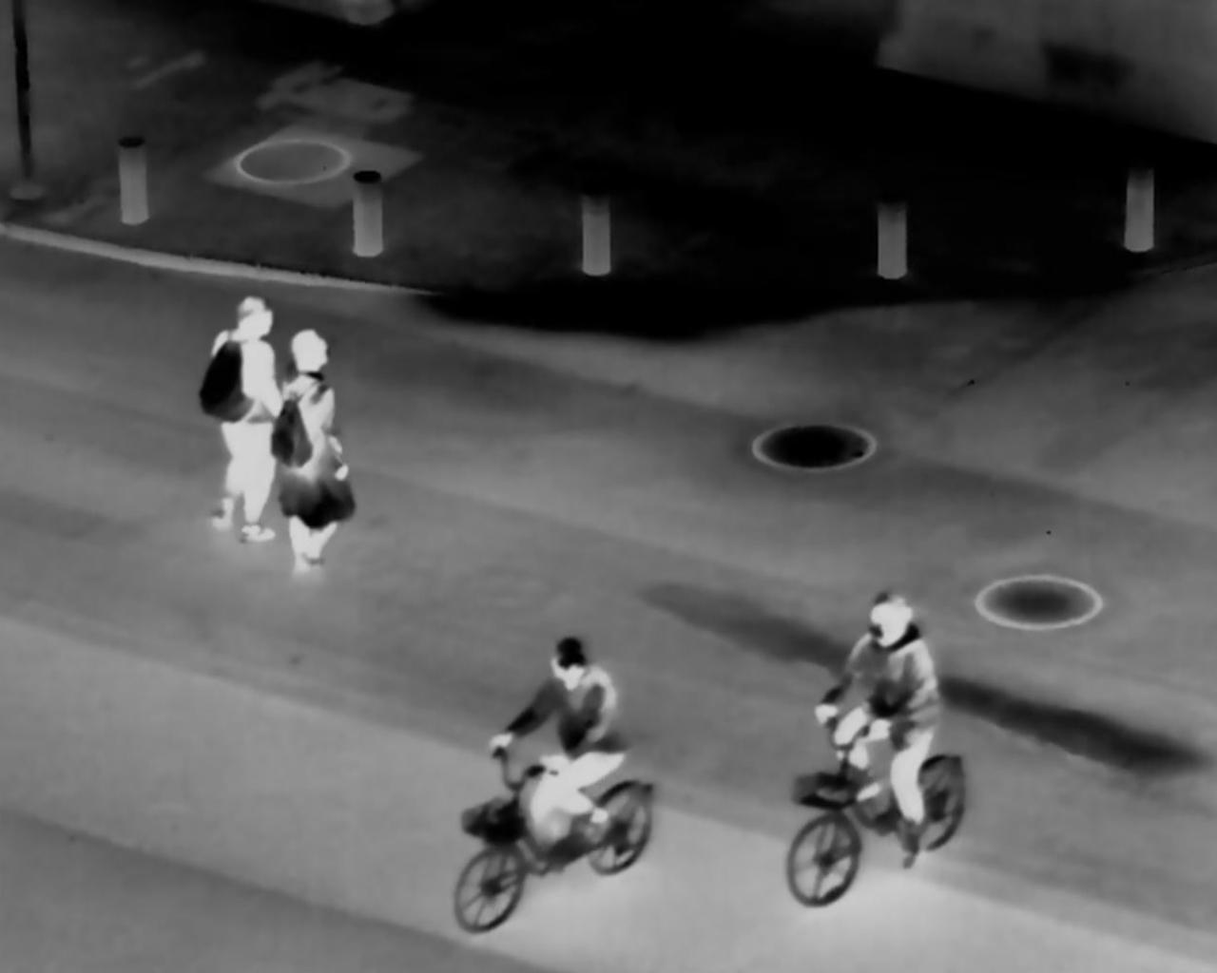person: (821, 579, 945, 858), (498, 633, 626, 852), (197, 289, 280, 553), (272, 327, 349, 578)
